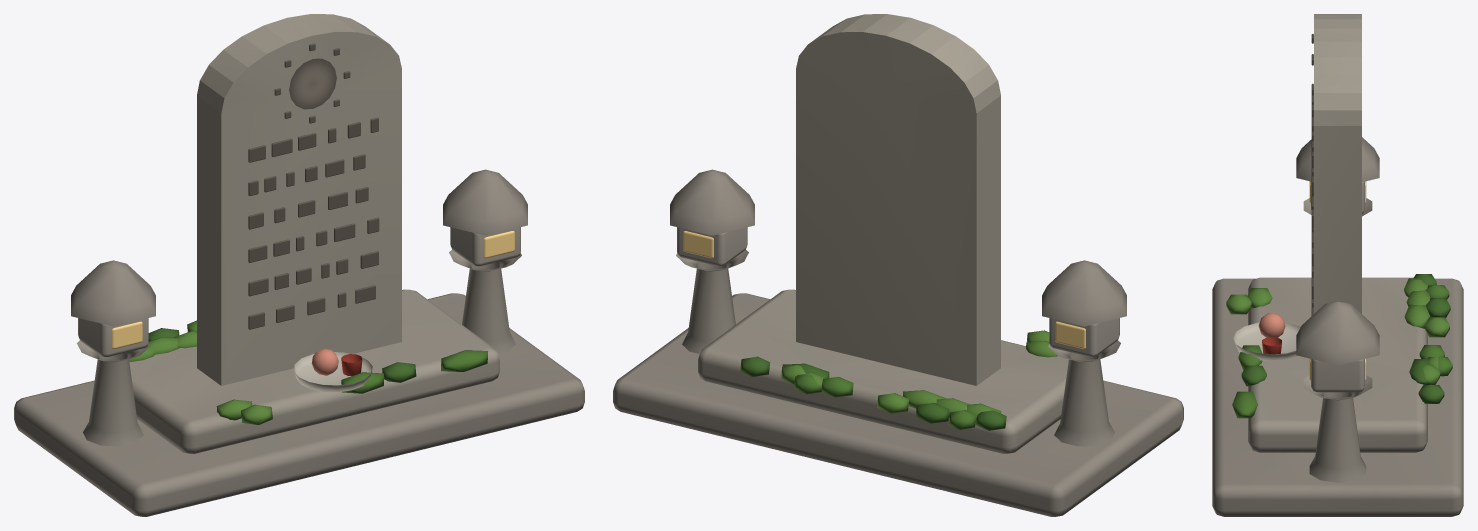
Rendered from shrine_stone.glb.
3 renders of one model, left to right at view 1: azimuth 30°, elevation 25°; view 2: azimuth 150°, elevation 25°; view 3: azimuth 270°, elevation 25°, orthographic. The views are drawn at different scales.
Visible parts, largest first — view 1: shrine_stone_main, shrine_stone_glow; view 2: shrine_stone_main, shrine_stone_glow; view 3: shrine_stone_main.
Boxes of the visible parts, x1,y1,x2,y2 form: shrine_stone_main: (14, 14, 584, 516); shrine_stone_glow: (112, 231, 514, 349); shrine_stone_main: (613, 14, 1183, 516); shrine_stone_glow: (683, 231, 1085, 348); shrine_stone_main: (1212, 14, 1463, 516).
Size of the model in its own units: 1.72 by 1.42 by 0.84.
